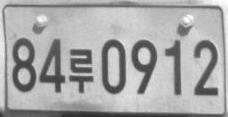0: (101, 38, 126, 95)
1: (162, 39, 188, 96)
2: (192, 39, 219, 96)
4: (38, 38, 65, 93)
8: (10, 37, 37, 92)
9: (131, 38, 157, 95)
루: (68, 48, 94, 93)
